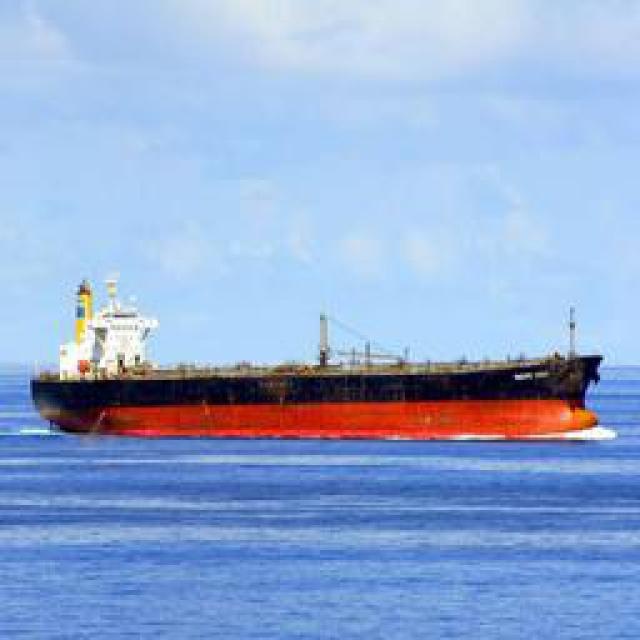Ship: (38, 329, 603, 439)
